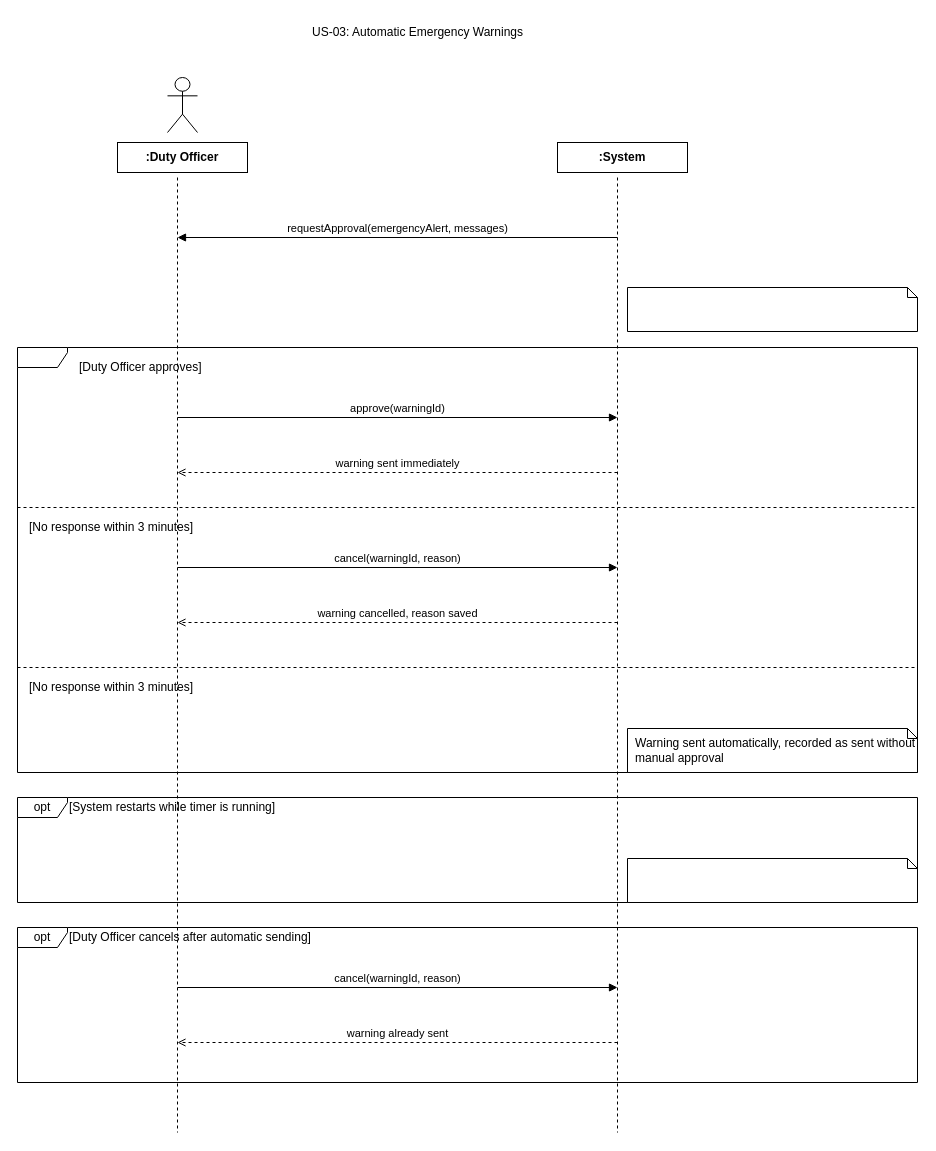
Image size: 936x1151. Some labels were removed from this diagram. Here are the shapes that lost their labels. From the top down, the box of each, then its label:
(626, 286, 918, 332): 3-minute approval timer starts (A4)
(16, 346, 918, 772): alt
(626, 858, 918, 902): Timer continues from the remaining time
